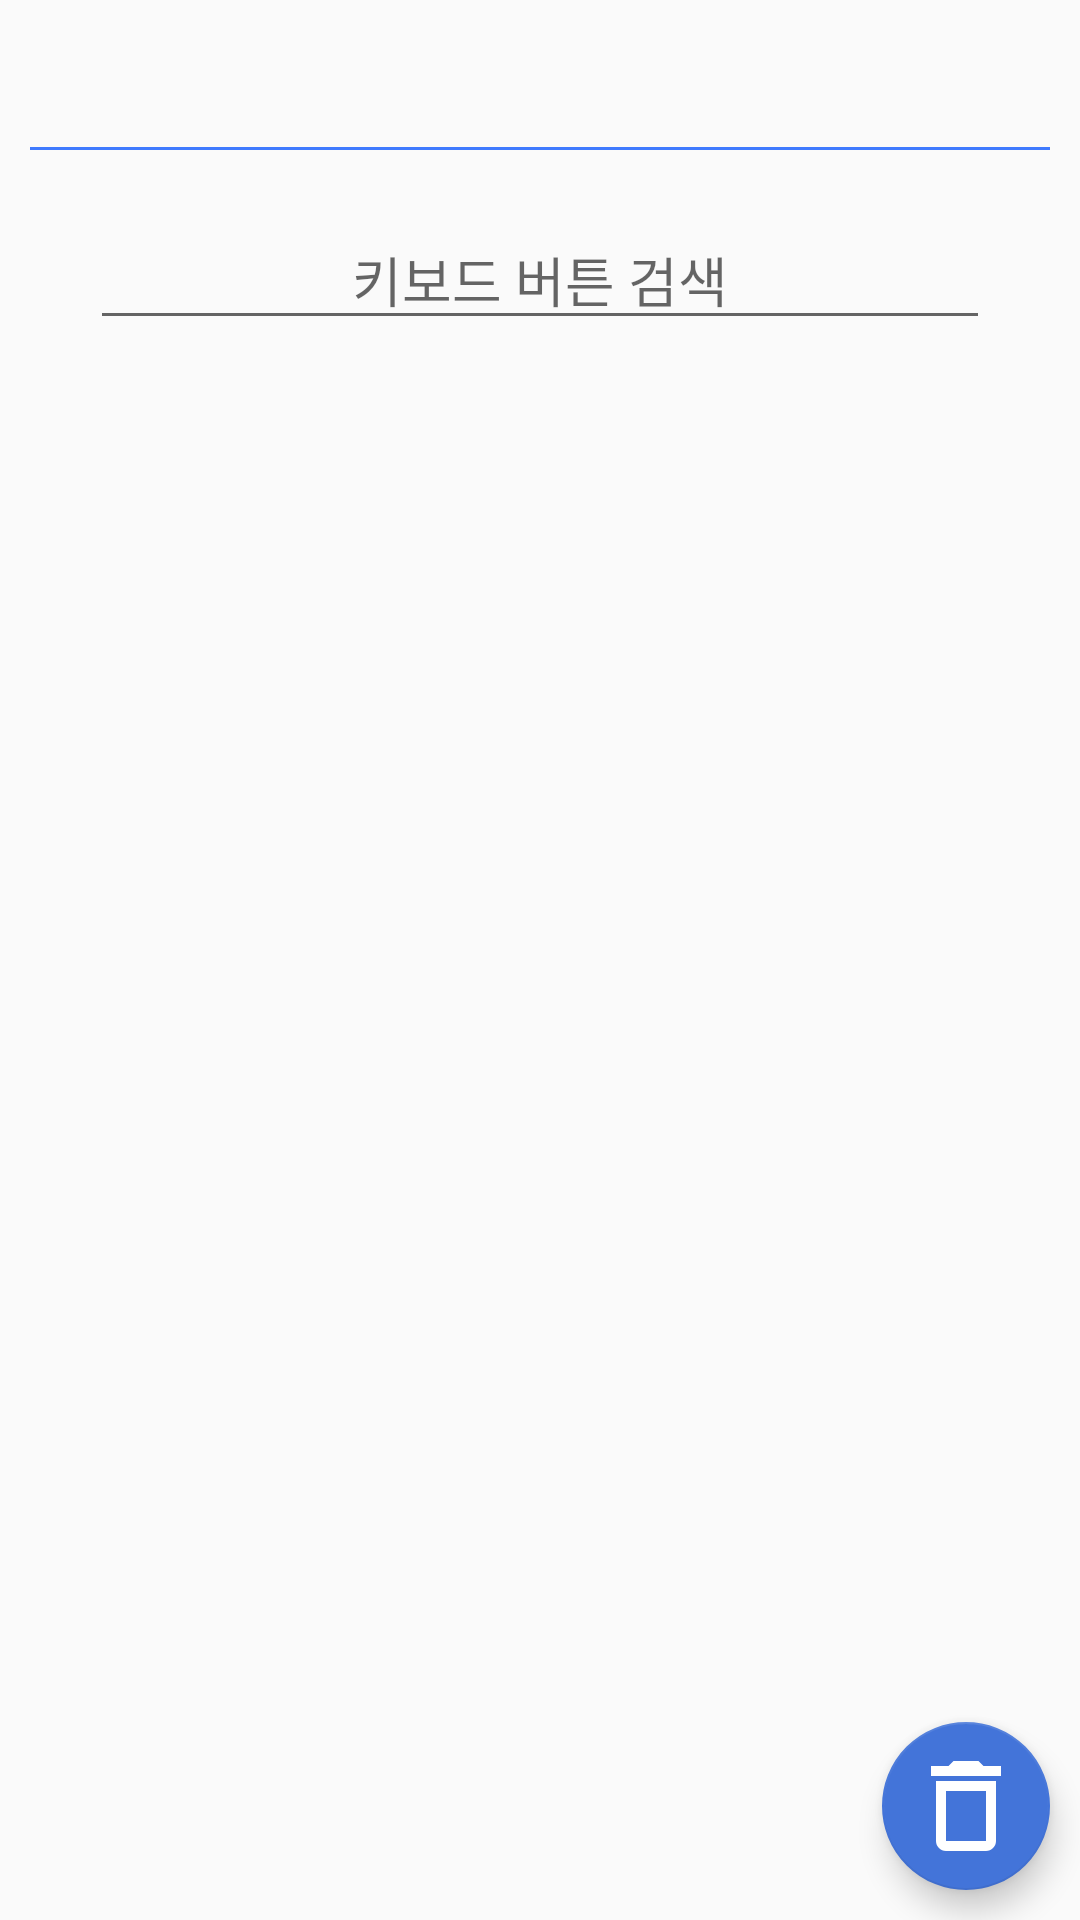

Named icons in this screenshot (1080px×1920px) and their bounding boxes, (x1, y1, x2, y2):
delete: (882, 1722, 1050, 1890)
